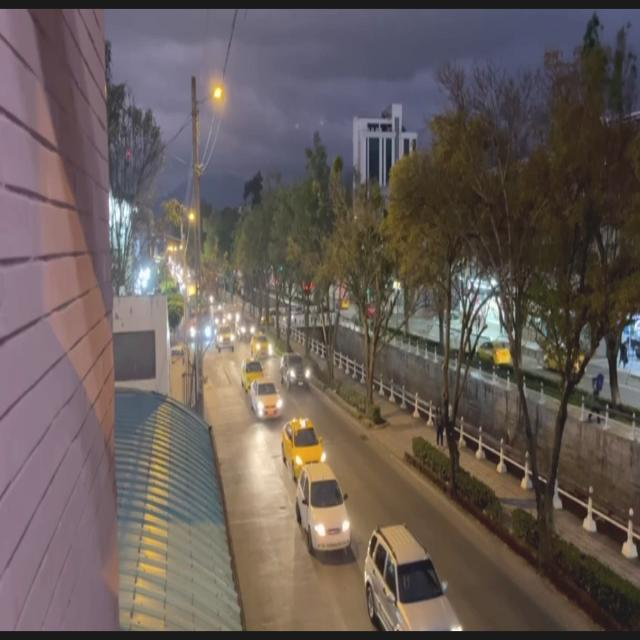CMT: (281, 354, 309, 388)
SED: (298, 462, 350, 551), (282, 421, 322, 481)
